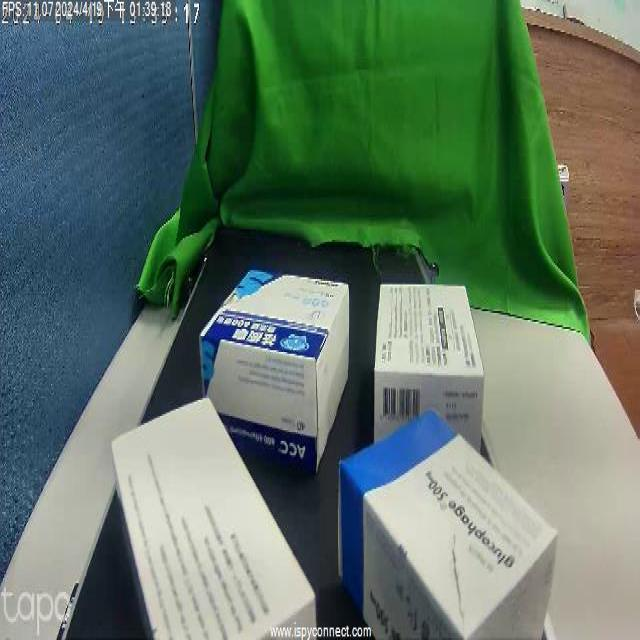box: (125, 393, 267, 640), (355, 461, 536, 640), (210, 263, 349, 434), (366, 277, 474, 430)
